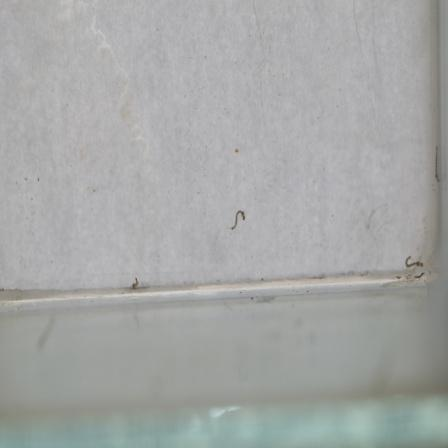Jentik-Nyamuk: (224, 207, 252, 233), (400, 251, 429, 271)
